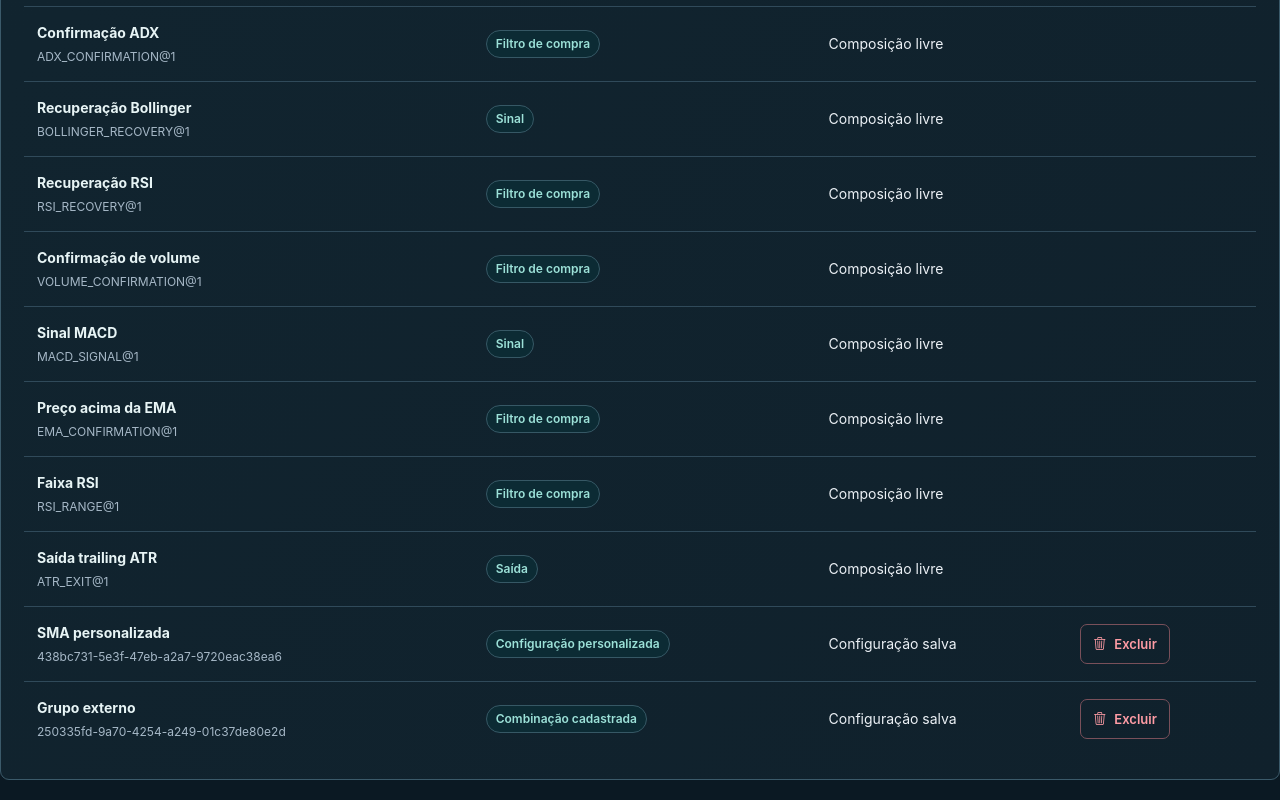
Scenario: encontra configurações incorporadas em grupos aninhados antes de tentar excluir
The image size is (1280, 800).
(page scrolled)
Click the button "Excluir" in the row of "SMA personalizada".
click(1125, 644)  # box x1=1080 y1=624 x2=1170 y2=664
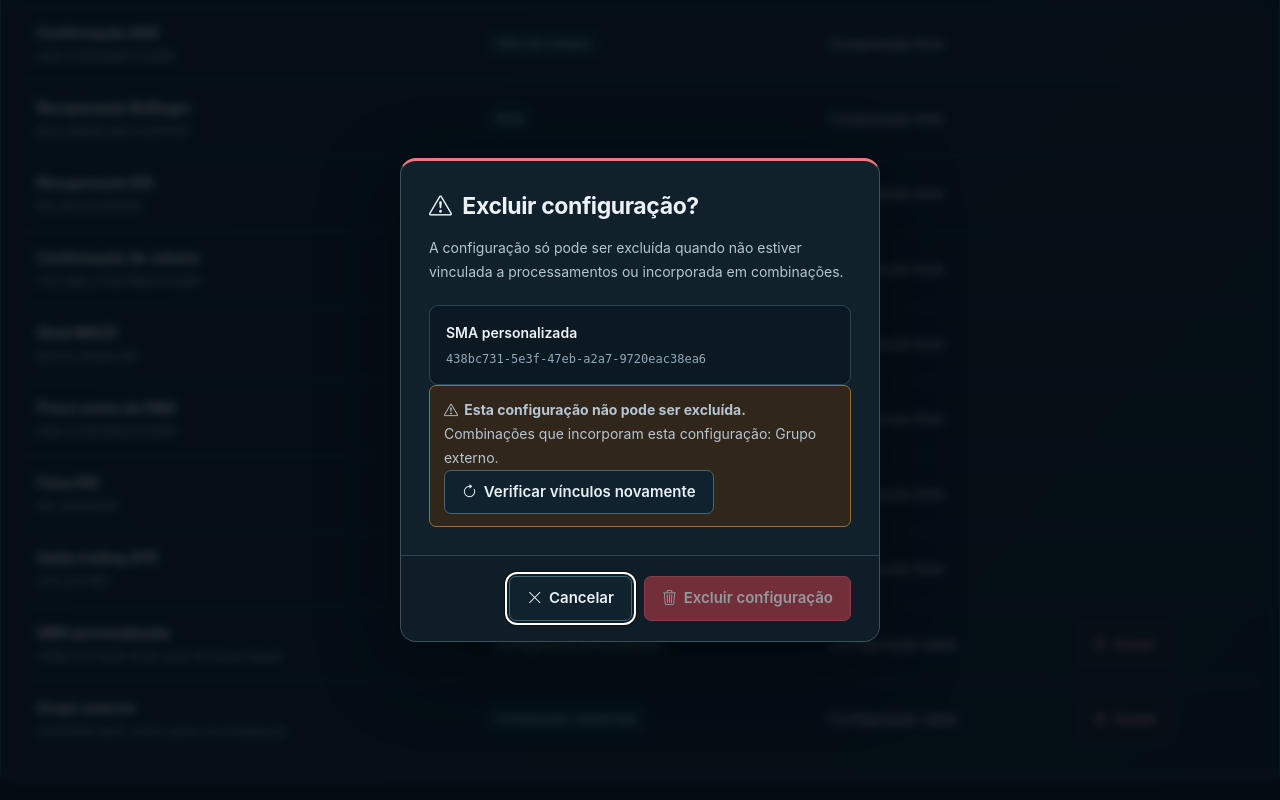
Expected: the message shows "Grupo externo", x1=444 y1=425 x2=816 y2=466
Expected: the button "Excluir configuração" is disabled, x1=644 y1=576 x2=851 y2=621
